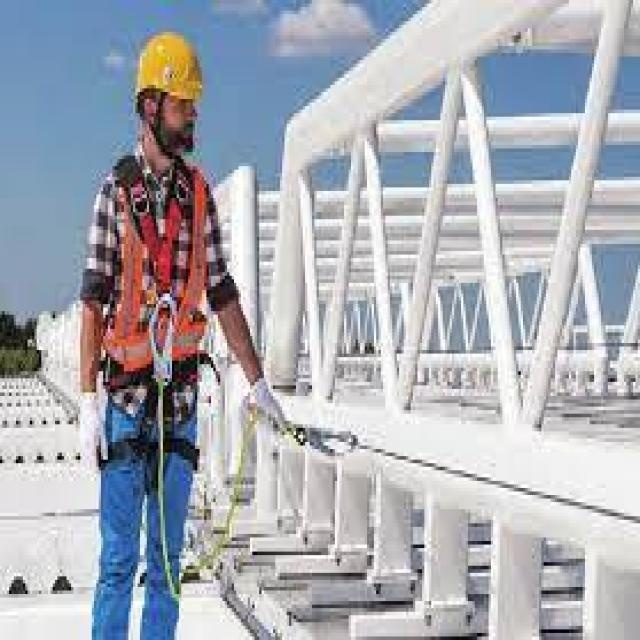Arnes_seguridad: (92, 156, 205, 485)
